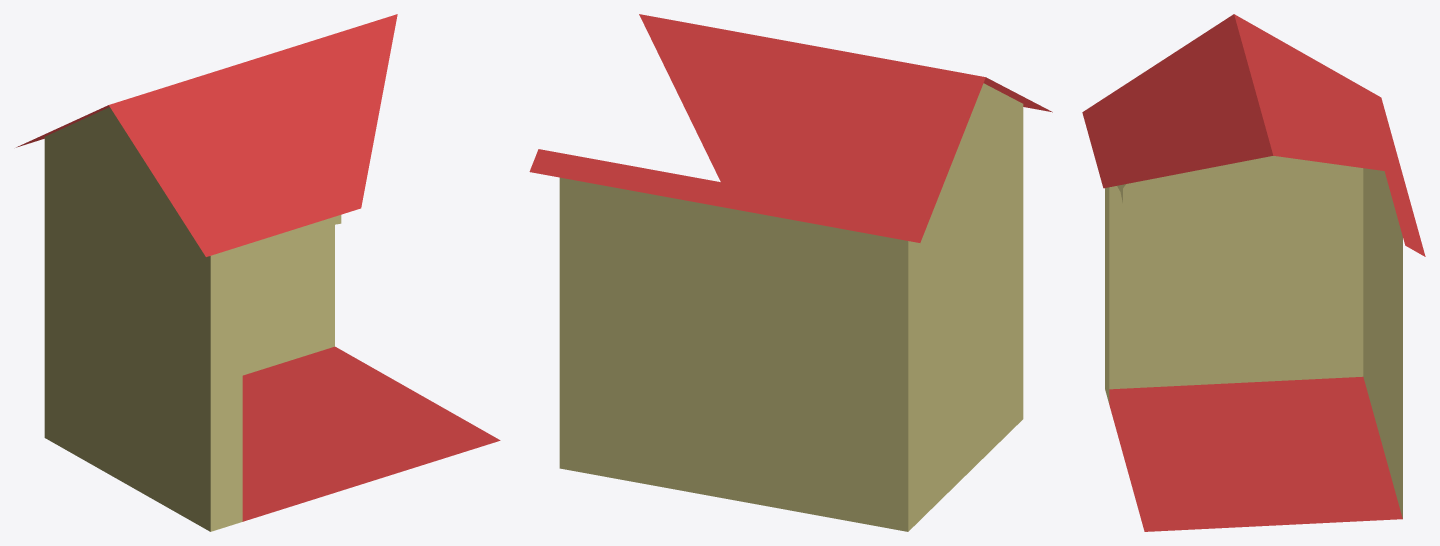
3 renders of one model, left to right at view 1: azimuth 30°, elevation 25°; view 2: azimuth 150°, elevation 25°; view 3: azimuth 270°, elevation 25°, orthographic. The views are drawn at different scales.
Size of the model in its own units: 9.47 by 8.34 by 9.66.
